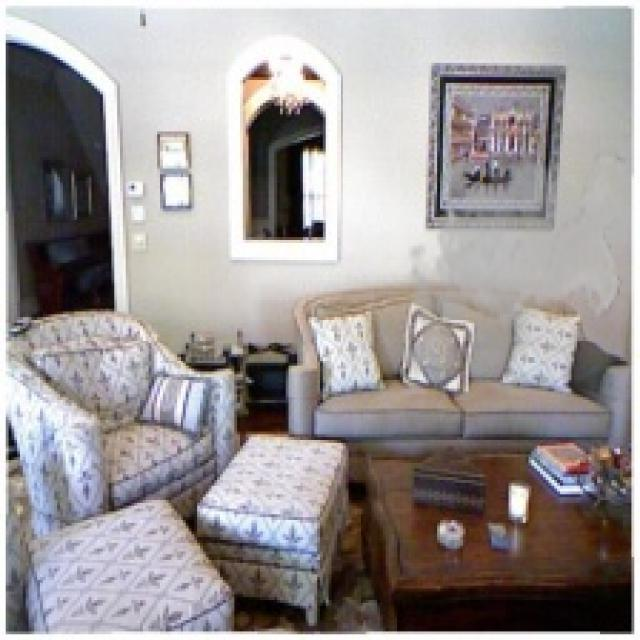Smoke: (394, 146, 626, 412)
